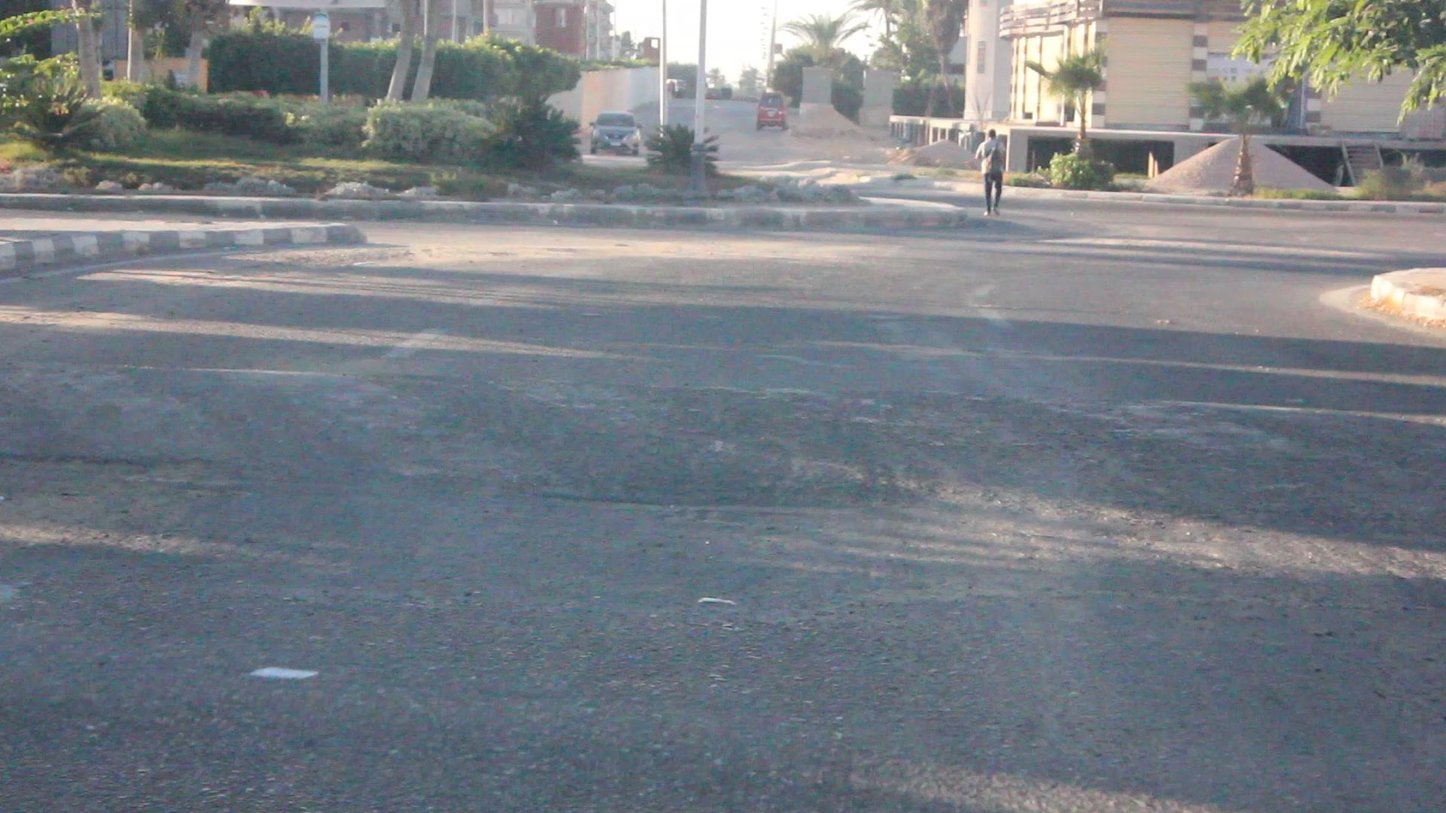Bump: (4, 369, 1446, 529)
